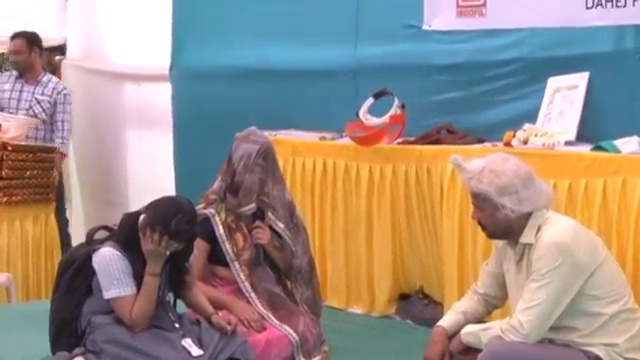helmet: (0, 113, 43, 143)
helmet_off: (457, 160, 548, 253), (124, 199, 193, 265), (222, 134, 279, 208), (0, 28, 45, 83)
person: (422, 160, 637, 360), (180, 135, 326, 358), (40, 198, 213, 355), (0, 25, 74, 166)
